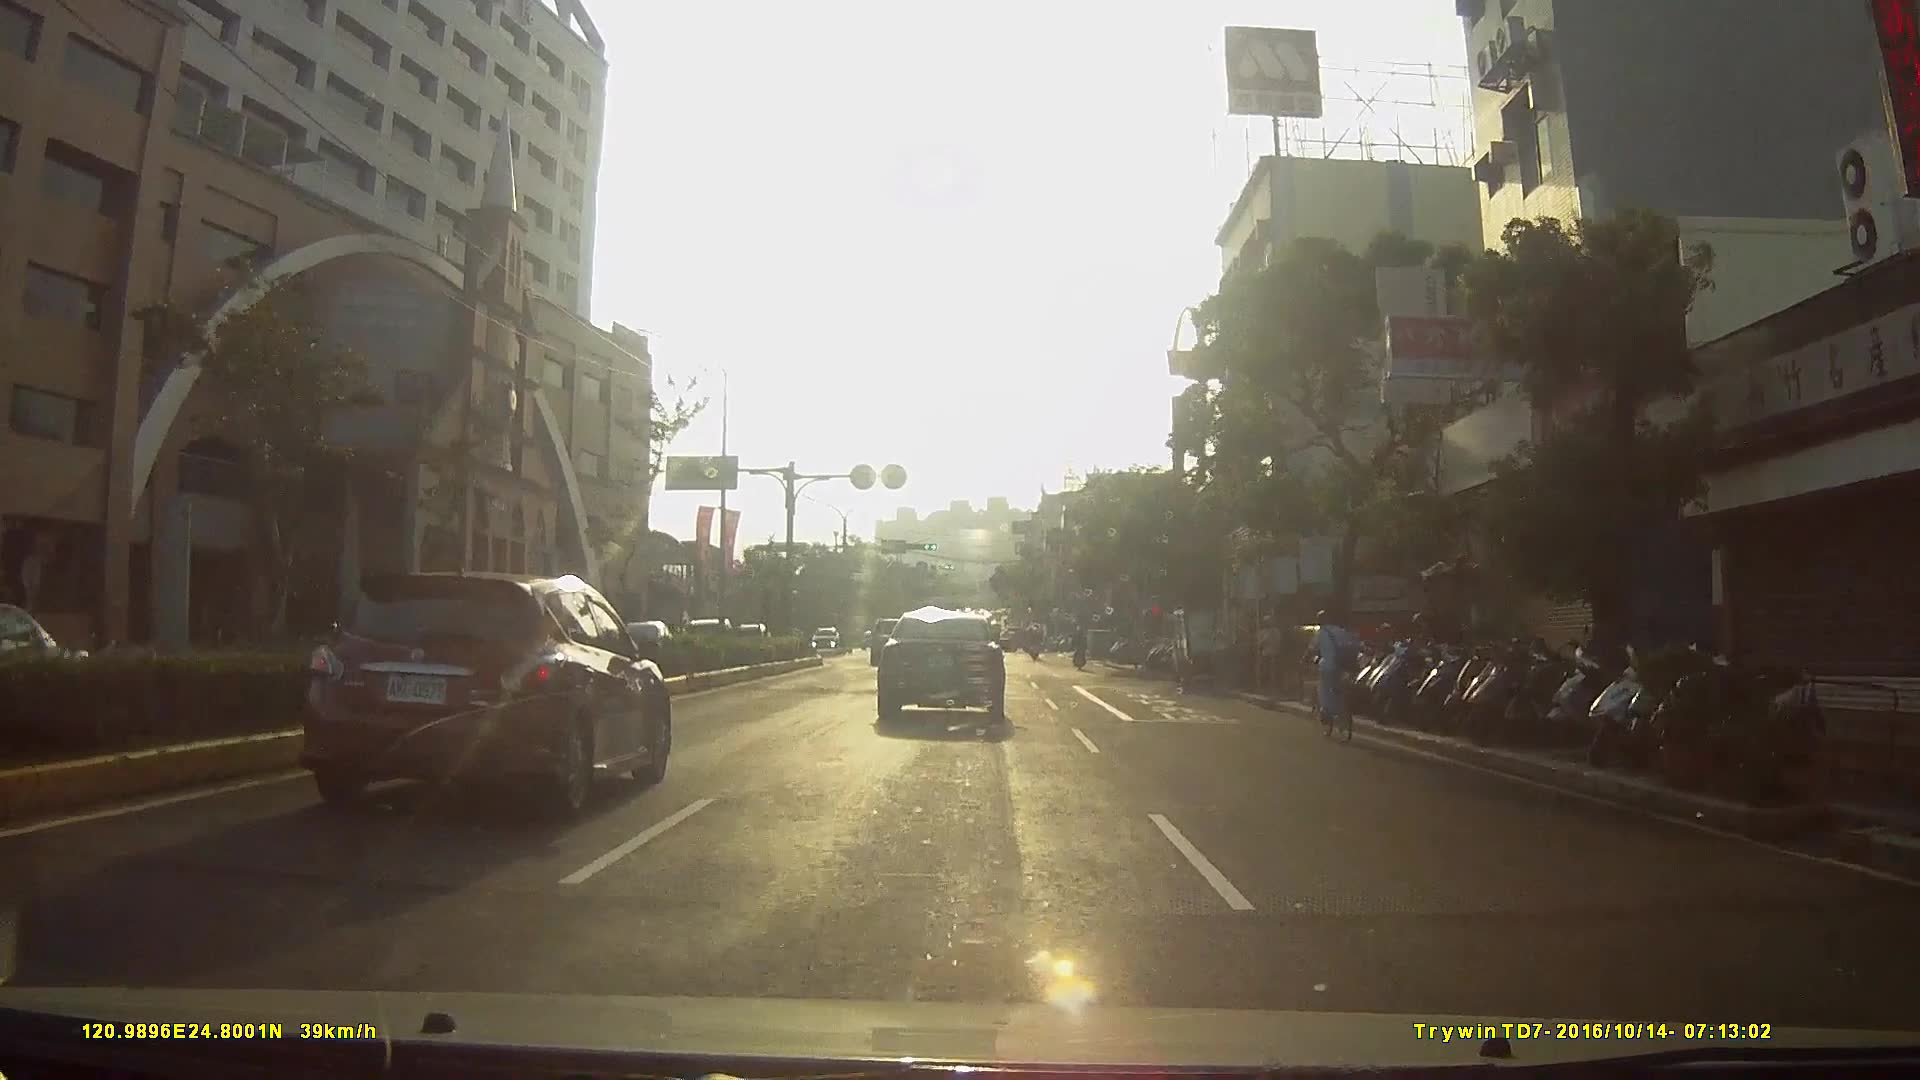pedestrian: (1254, 615, 1287, 700)
rider: (1302, 610, 1366, 744)
vehicle: (293, 565, 683, 820), (870, 608, 1018, 736), (1171, 599, 1255, 684), (763, 607, 822, 662), (799, 621, 849, 659)
